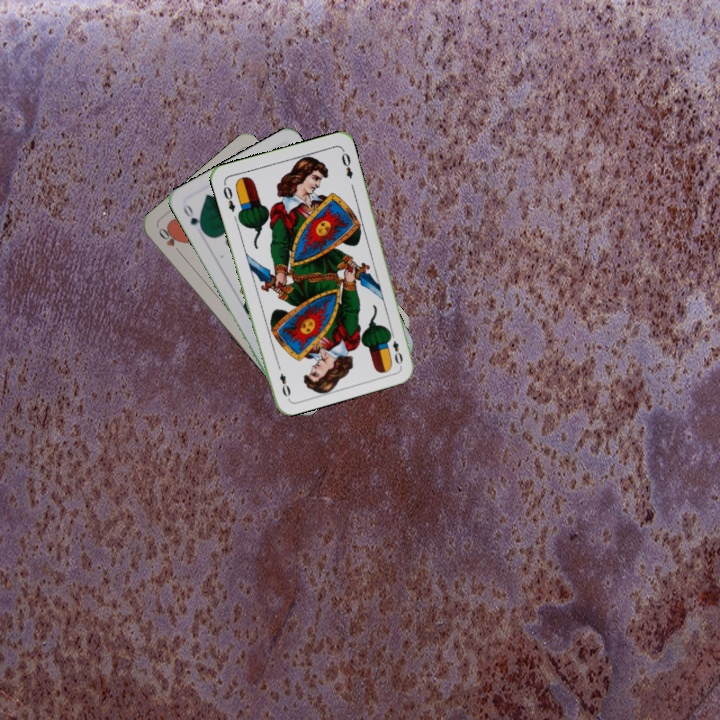EO: (385, 328, 405, 367), (219, 179, 238, 215)
GO: (179, 201, 207, 236)
HO: (154, 223, 184, 258)
